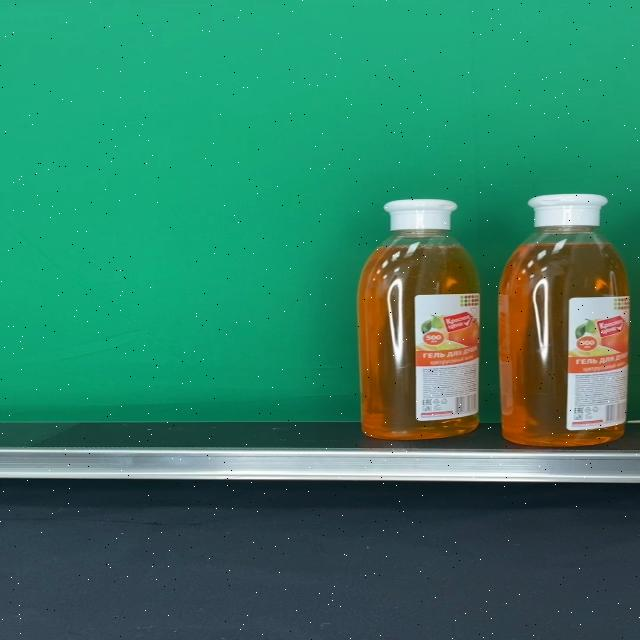Bottle: (500, 194, 629, 445), (359, 199, 480, 440)
Cap: (527, 194, 609, 227), (383, 199, 458, 229)
